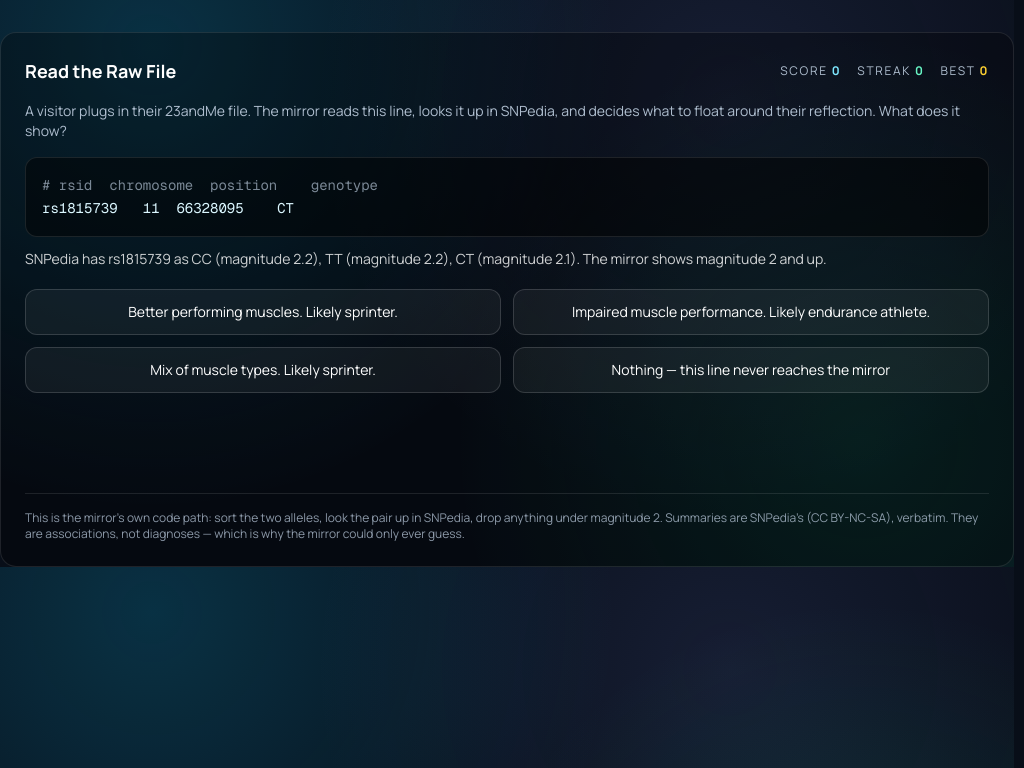
DnaSnpGame › moves to the next line
Step 1. Click the button with test id "dna-option-2" → (263, 370), box top-left (25, 346), bottom-right (501, 392)
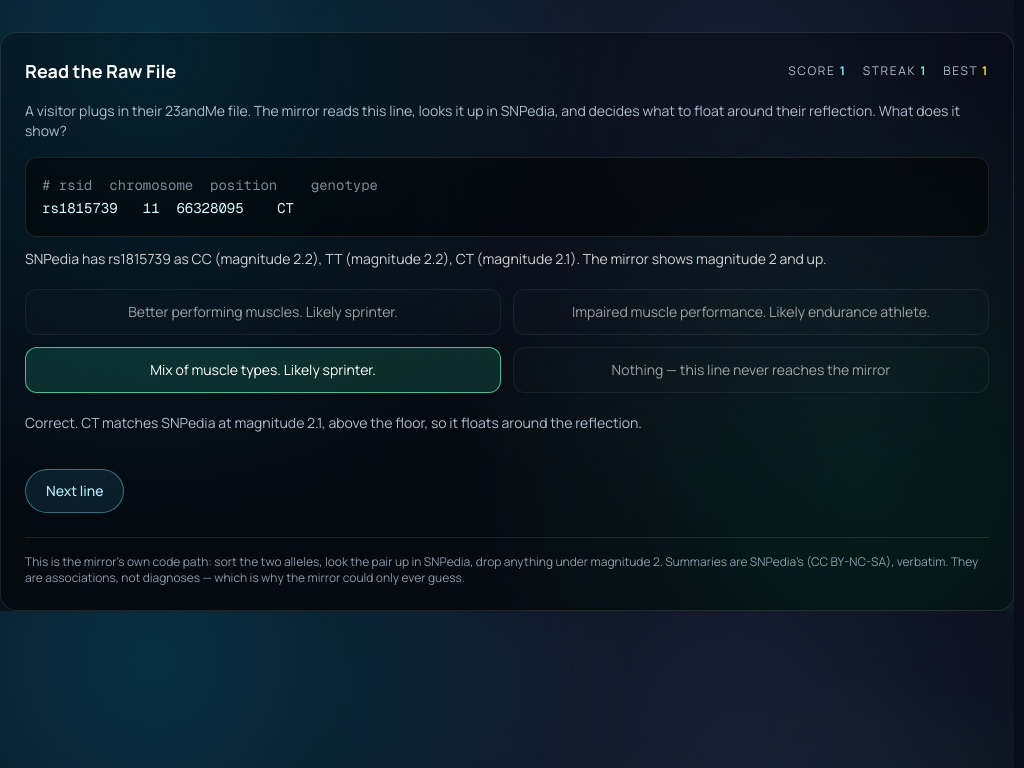
Step 2. Click the button with test id "dna-game-next-round" → (75, 490), box top-left (25, 468), bottom-right (124, 512)
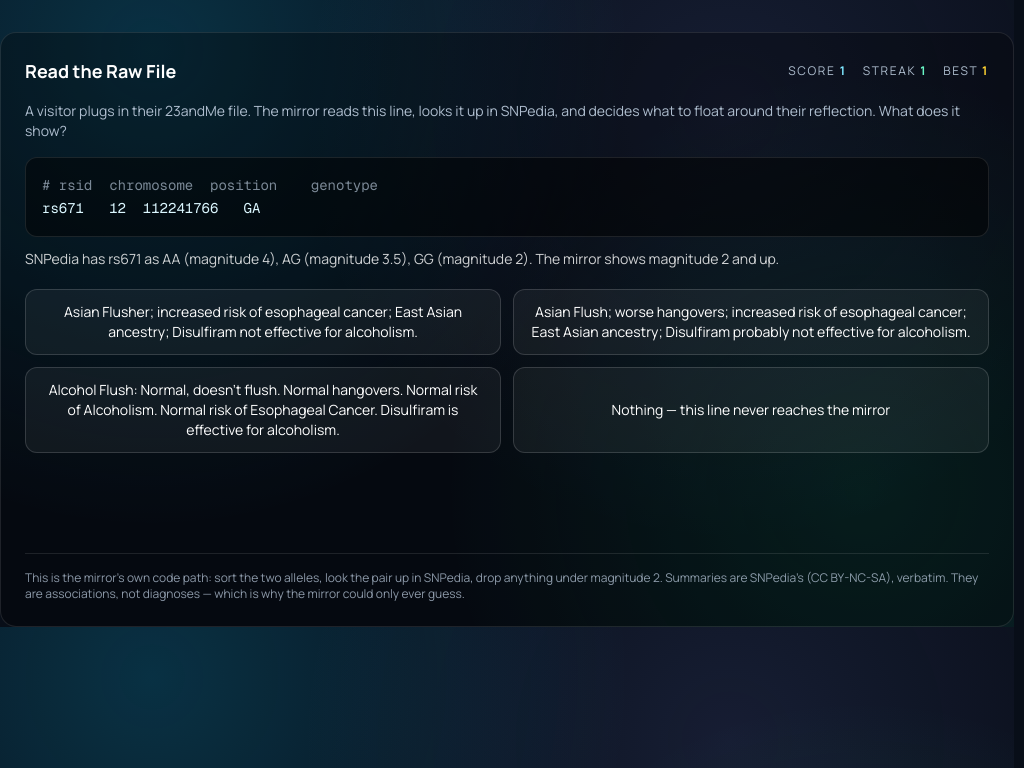
Now the element with test id "dna-raw-line" shows "rs671", box top-left (42, 199), bottom-right (260, 217)
